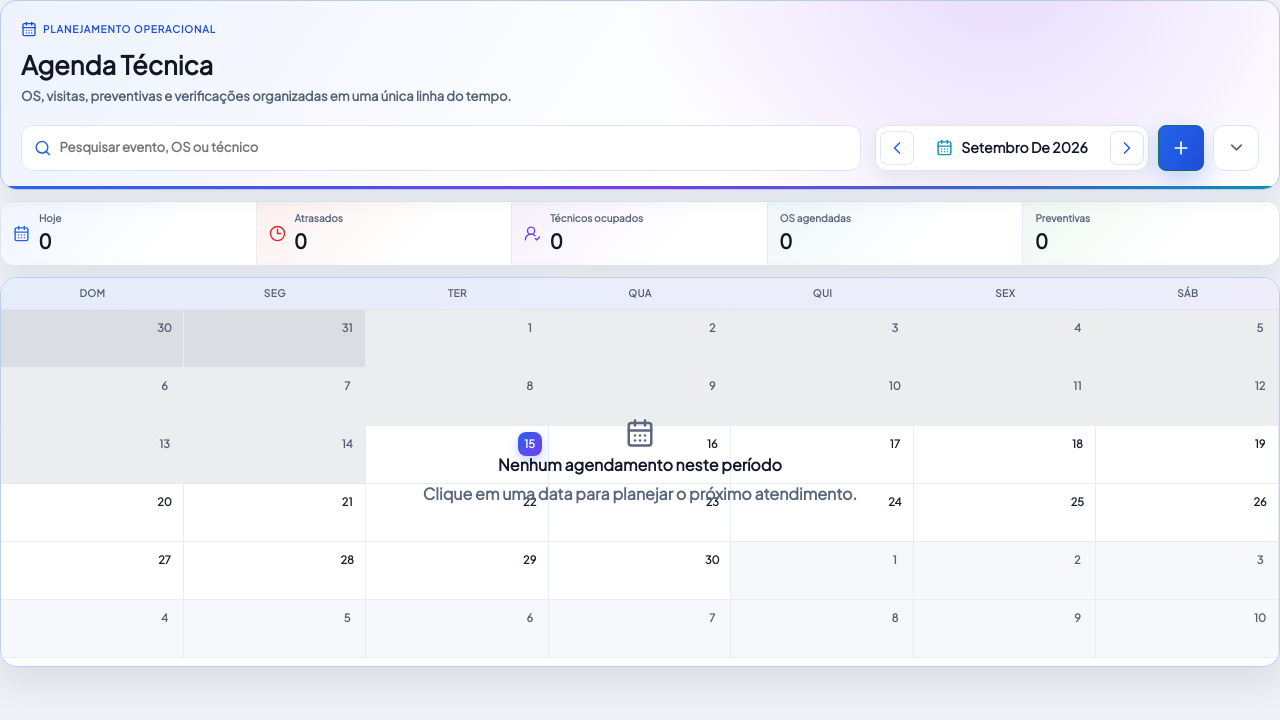
it: TechnicalCalendarPage (fluxos) › cria um agendamento, notifica, fecha e recarrega
Click the button named "Novo agendamento em 20 de setembro de 2026". click: (165, 502)
box: left=153, top=490, right=177, bottom=514
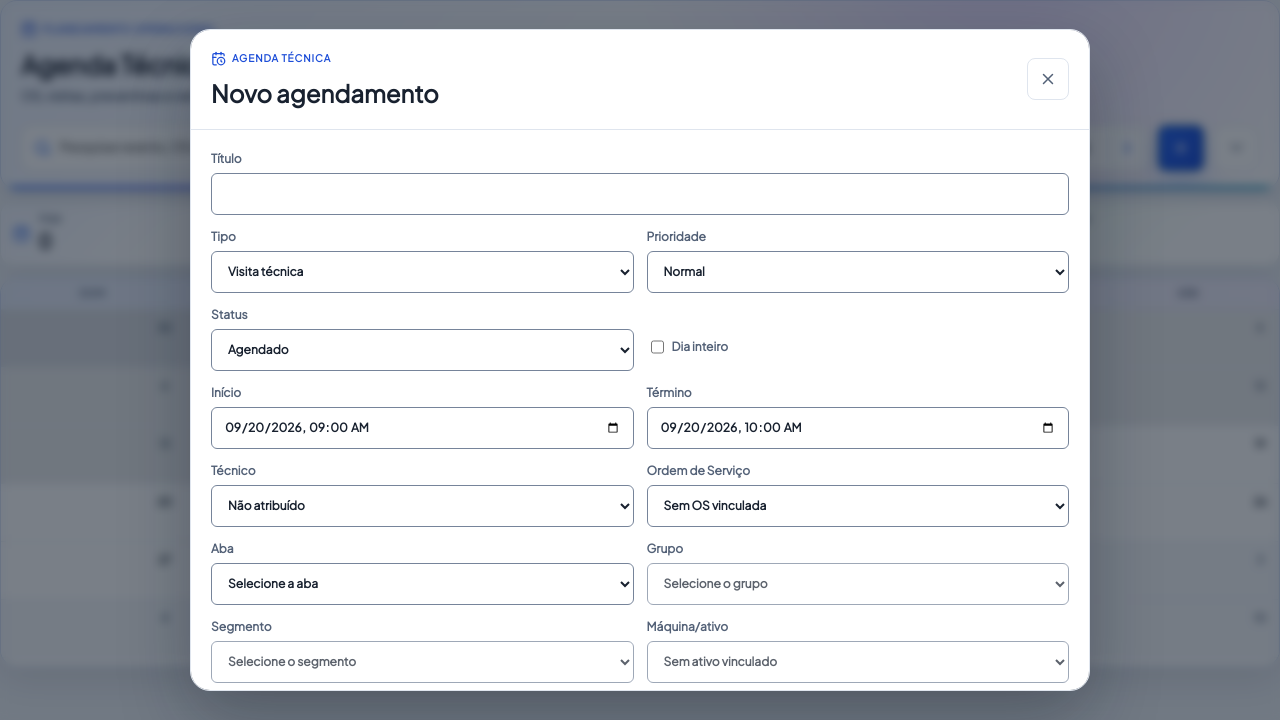
Type "Visita nova" into the field labelled "Título". click: (640, 194)
box: left=211, top=173, right=1069, bottom=215
(page scrolled)
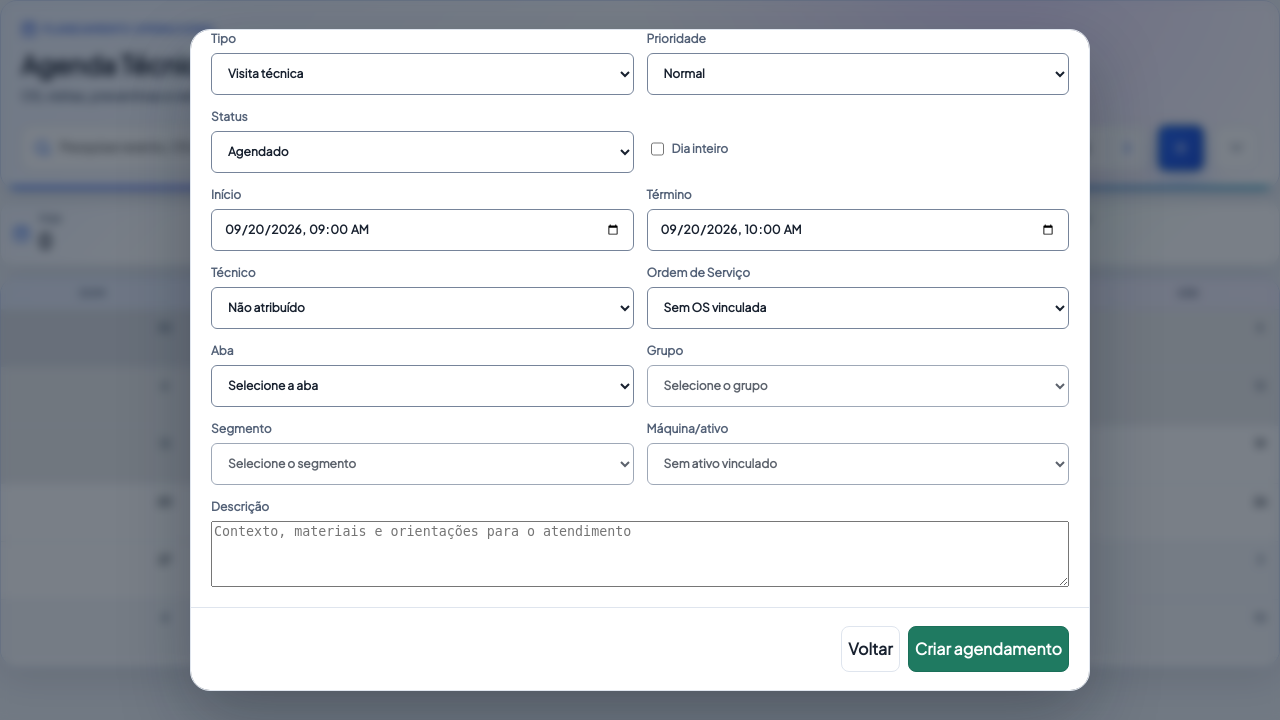
Click the button "Criar agendamento". click: (988, 649)
box: left=908, top=626, right=1069, bottom=672
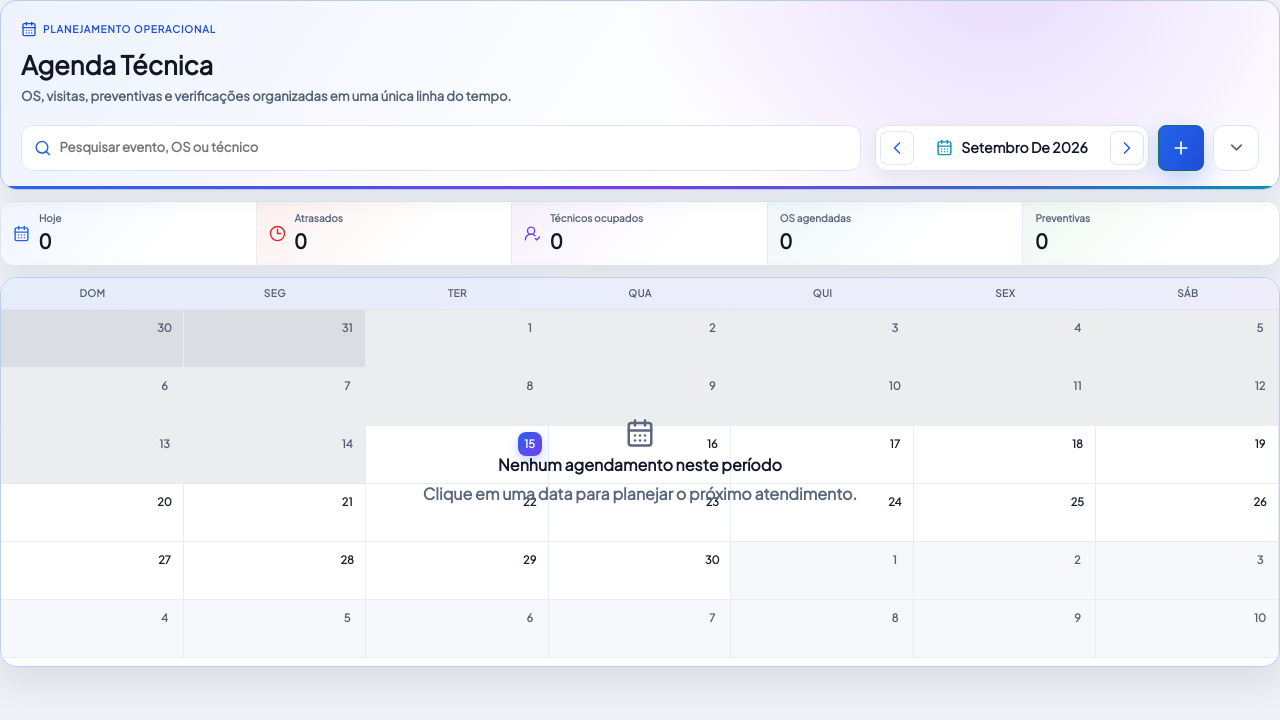
Result: the dialog is gone
